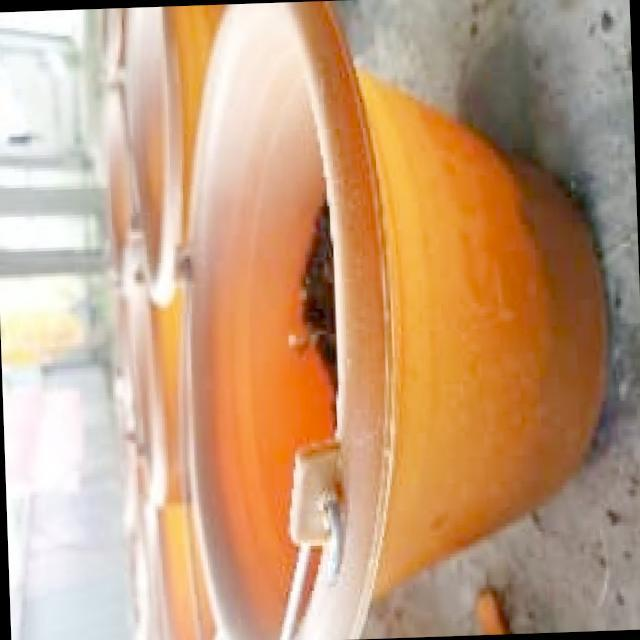HDPE Plastic: (176, 8, 608, 622), (115, 12, 210, 306), (120, 308, 186, 502)
